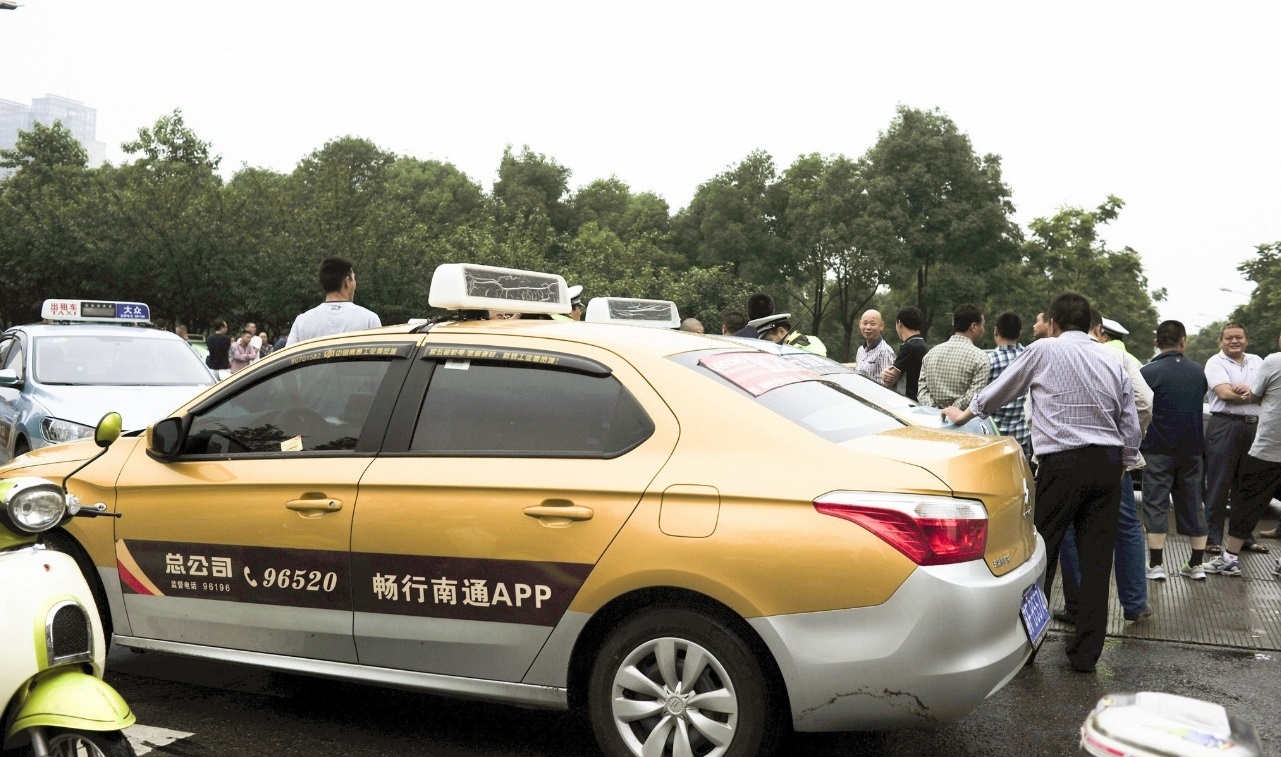taxi: (16, 289, 1042, 757)
